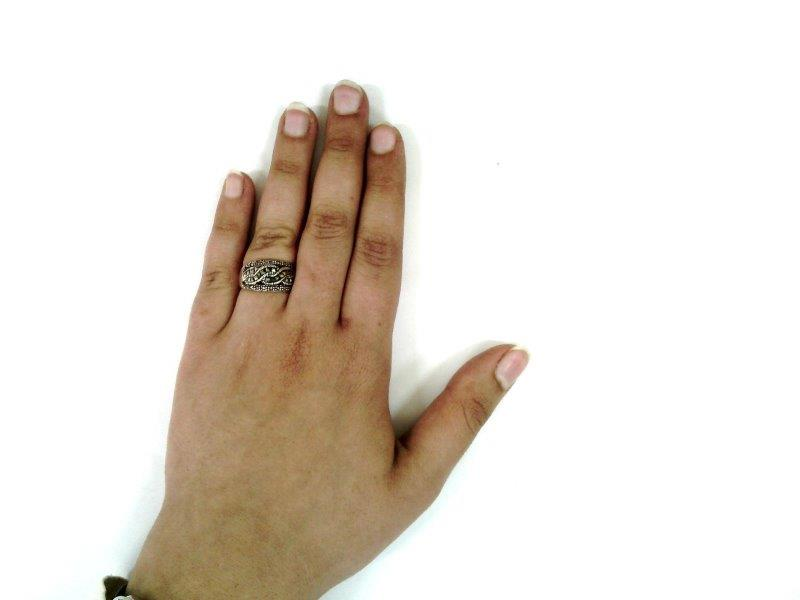hand: (149, 82, 530, 576)
